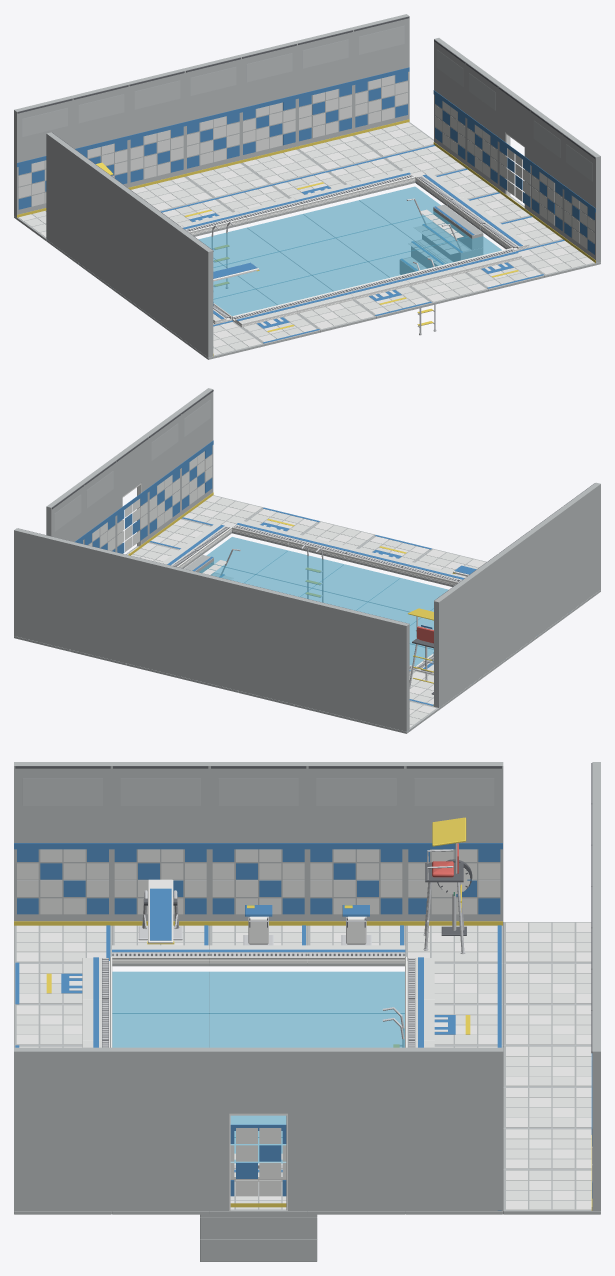
The model's file is swimming-pool-light.glb.
The picture shows the model from 3 angles, top to bottom: view 1: azimuth 30°, elevation 25°; view 2: azimuth 150°, elevation 25°; view 3: azimuth 270°, elevation 25°; orthographic projection. The views are drawn at different scales.
Visible parts, largest first — view 1: 115-baths-wall-module0, 110-baths-wall-module0, 106-baths-wall-module0, 108-baths-wall-module0, 107-baths-wall-module0, 109-baths-wall-module0, 111-baths-wall-module0, 114-baths-wall-module0, 112-baths-wall-module0, 113-baths-wall-module0, 104-baths-wall-module0, 105-baths-wall-module0 (+87 smaller); view 2: 104-baths-wall-module0, 107-baths-wall-module0, 106-baths-wall-module0, 108-baths-wall-module0, 105-baths-wall-module0, 109-baths-wall-module0, 110-baths-wall-module0, 111-baths-wall-module0, 114-baths-wall-module0, 112-baths-wall-module0, 113-baths-wall-module0, 115-baths-wall-module0 (+27 smaller); view 3: 116-baths-wall-module0, 117-baths-wall-module0, 119-baths-wall-module0, 120-baths-wall-module0, 118-baths-wall-module-doorway0, 115-baths-wall-module0, 112-baths-wall-module0, 113-baths-wall-module0, 114-baths-wall-module0, 111-baths-wall-module0, 150-shallow-end-steps0, 003-pool-water-surface-panel0 (+72 smaller).
Part boxes in pixels (left/top/right/bottom): 115-baths-wall-module0: left=176, top=227, right=213, bottom=357; 110-baths-wall-module0: left=351, top=14, right=409, bottom=132; 106-baths-wall-module0: left=126, top=69, right=185, bottom=187; 108-baths-wall-module0: left=238, top=41, right=297, bottom=159; 107-baths-wall-module0: left=182, top=55, right=241, bottom=173; 109-baths-wall-module0: left=295, top=27, right=353, bottom=146; 111-baths-wall-module0: left=46, top=132, right=83, bottom=262; 114-baths-wall-module0: left=143, top=203, right=180, bottom=333; 112-baths-wall-module0: left=78, top=156, right=115, bottom=285; 113-baths-wall-module0: left=111, top=180, right=148, bottom=309; 104-baths-wall-module0: left=14, top=96, right=72, bottom=217; 105-baths-wall-module0: left=70, top=82, right=128, bottom=187; 104-baths-wall-module0: left=350, top=610, right=409, bottom=731; 107-baths-wall-module0: left=182, top=569, right=240, bottom=690; 106-baths-wall-module0: left=238, top=583, right=296, bottom=703; 108-baths-wall-module0: left=126, top=555, right=184, bottom=676; 105-baths-wall-module0: left=294, top=596, right=352, bottom=717; 109-baths-wall-module0: left=70, top=542, right=128, bottom=662; 110-baths-wall-module0: left=14, top=528, right=72, bottom=649; 111-baths-wall-module0: left=434, top=577, right=471, bottom=707; 114-baths-wall-module0: left=531, top=506, right=568, bottom=636; 112-baths-wall-module0: left=466, top=554, right=503, bottom=683; 113-baths-wall-module0: left=499, top=530, right=536, bottom=659; 115-baths-wall-module0: left=564, top=482, right=600, bottom=612; 116-baths-wall-module0: left=405, top=1047, right=503, bottom=1210; 117-baths-wall-module0: left=307, top=1047, right=405, bottom=1210; 119-baths-wall-module0: left=111, top=1047, right=209, bottom=1210; 120-baths-wall-module0: left=14, top=1047, right=111, bottom=1210; 118-baths-wall-module-doorway0: left=209, top=1047, right=307, bottom=1210; 115-baths-wall-module0: left=14, top=762, right=111, bottom=921; 112-baths-wall-module0: left=307, top=762, right=405, bottom=921; 113-baths-wall-module0: left=209, top=762, right=307, bottom=921; 114-baths-wall-module0: left=111, top=762, right=209, bottom=921; 111-baths-wall-module0: left=405, top=762, right=503, bottom=924; 150-shallow-end-steps0: left=200, top=1214, right=317, bottom=1261; 003-pool-water-surface-panel0: left=209, top=971, right=307, bottom=1013.
Bounding box in the file's own units: 14 × 5.68 × 12.
